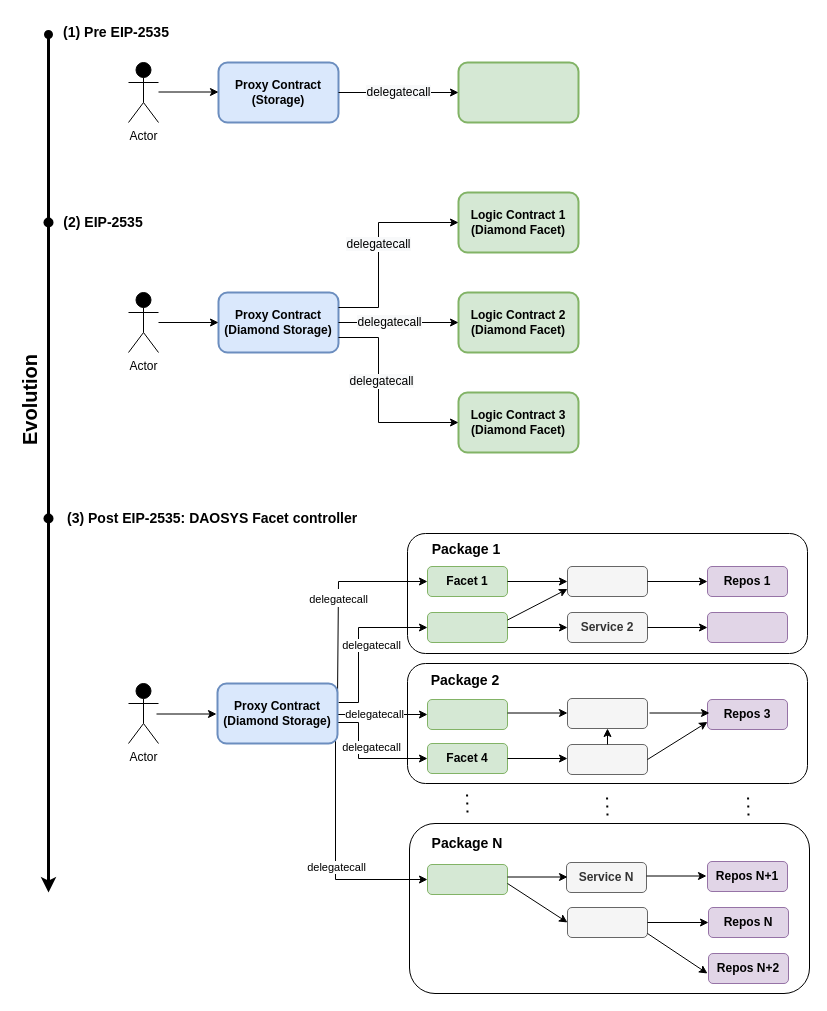
This 827x1011 diagram has some shape labels left out. Here are the shapes that lost their labels. From the top down, the centre of each, then its label:
At point (518, 92): "Logic Contract".
At point (607, 581): "Service 1".
At point (467, 627): "Facet 2".
At point (747, 627): "Repos 2".
At point (467, 714): "Facet 3".
At point (607, 713): "Service 3".
At point (607, 759): "Service 4".
At point (467, 879): "Facet N".
At point (607, 922): "Service N+1".
